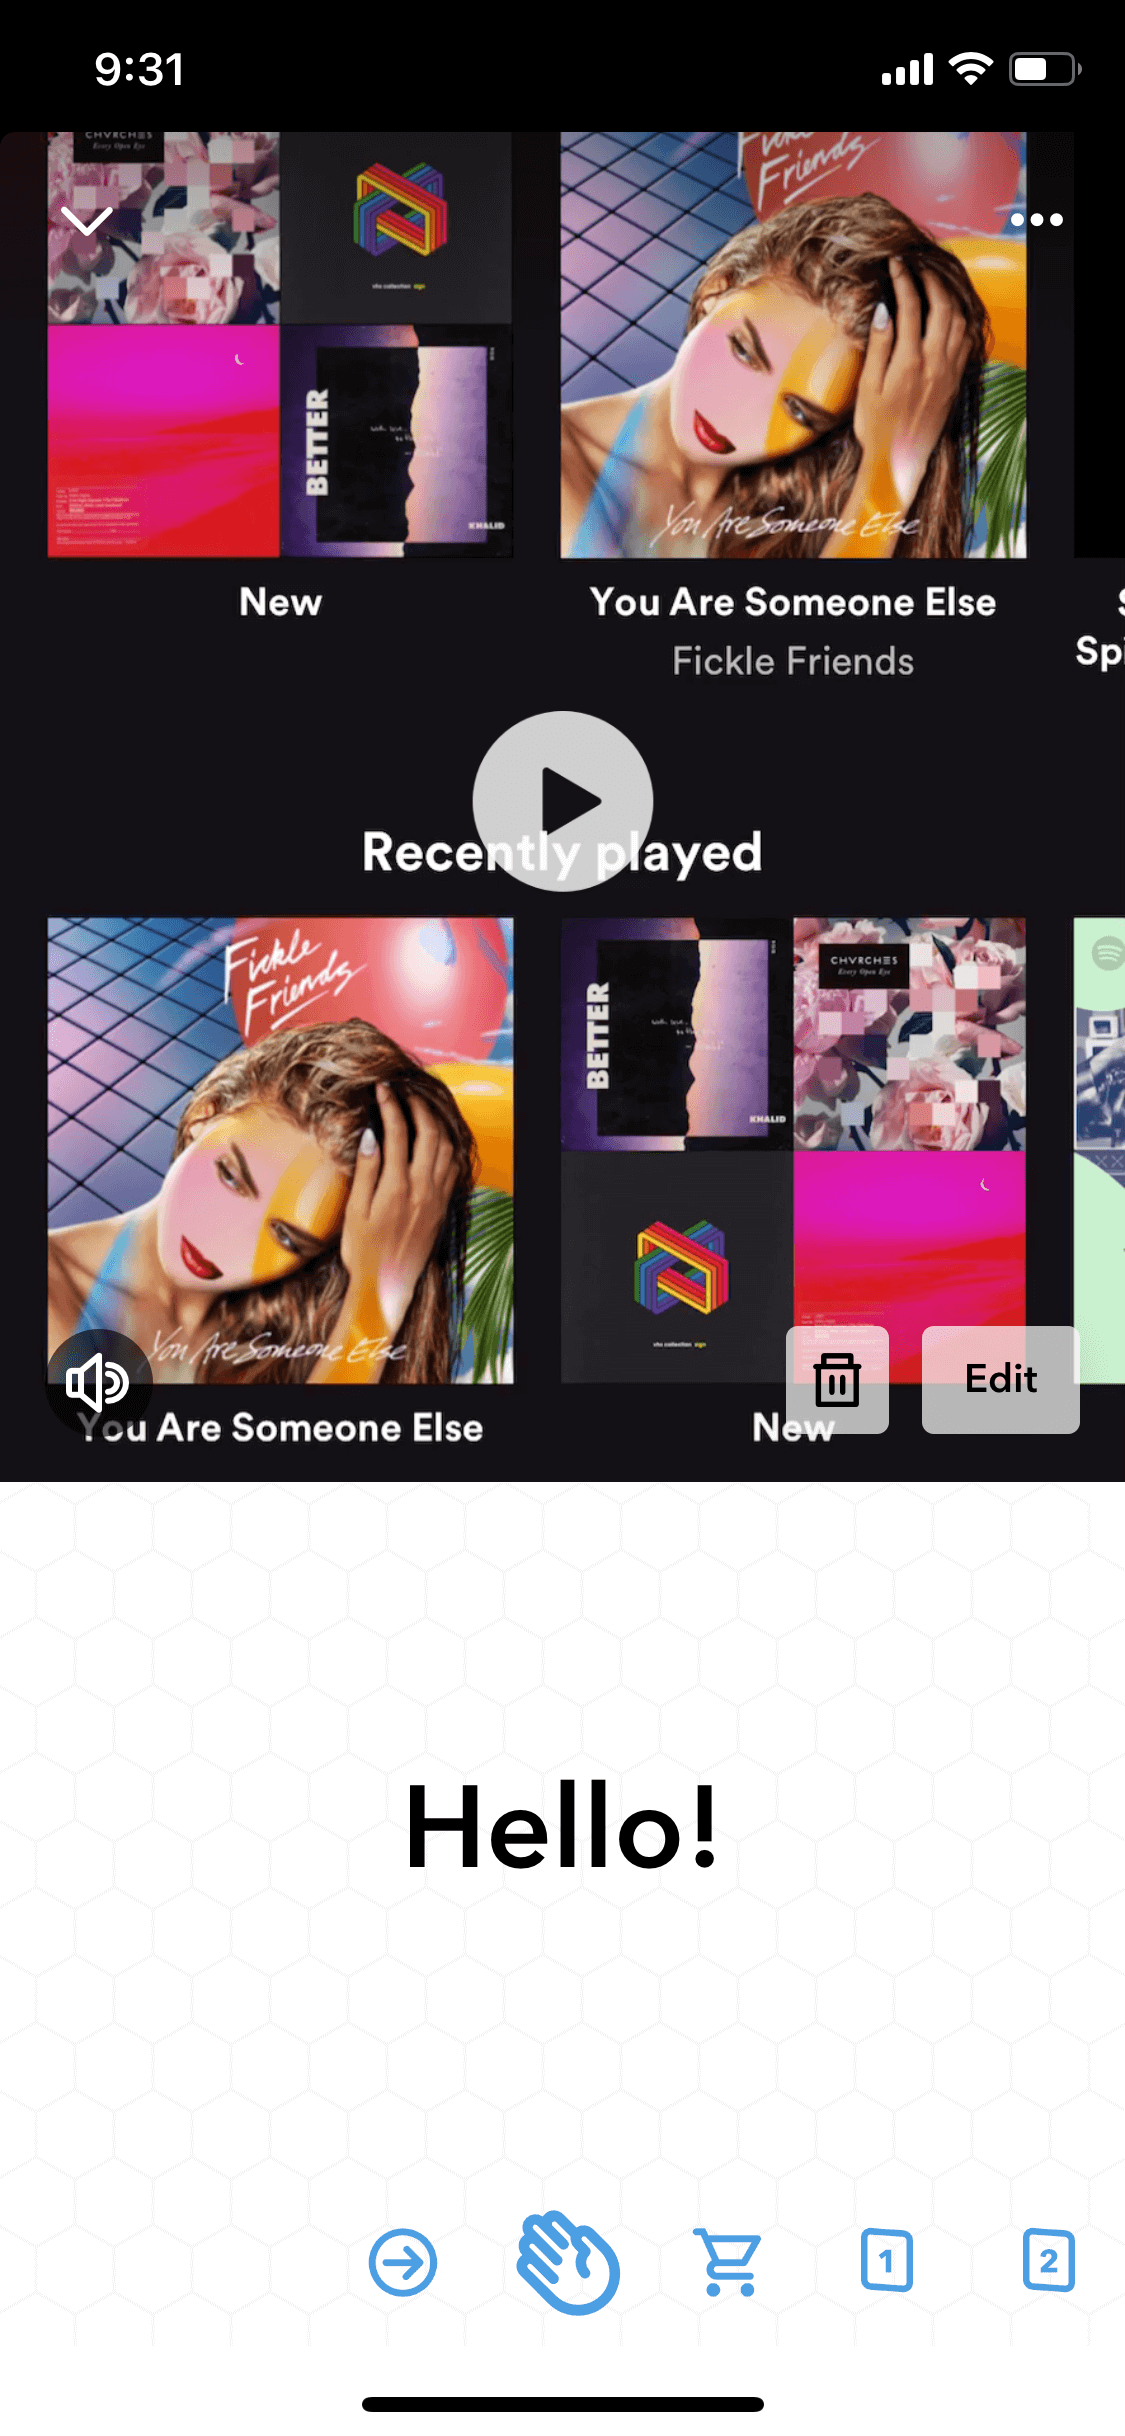Buttons: (914, 1308, 1088, 1449), (493, 2189, 640, 2327), (659, 2191, 806, 2327), (19, 1307, 157, 1448), (768, 1307, 904, 1449), (339, 2191, 479, 2327), (831, 2189, 956, 2326), (977, 2187, 1097, 2324), (22, 151, 151, 267), (980, 149, 1106, 266)
